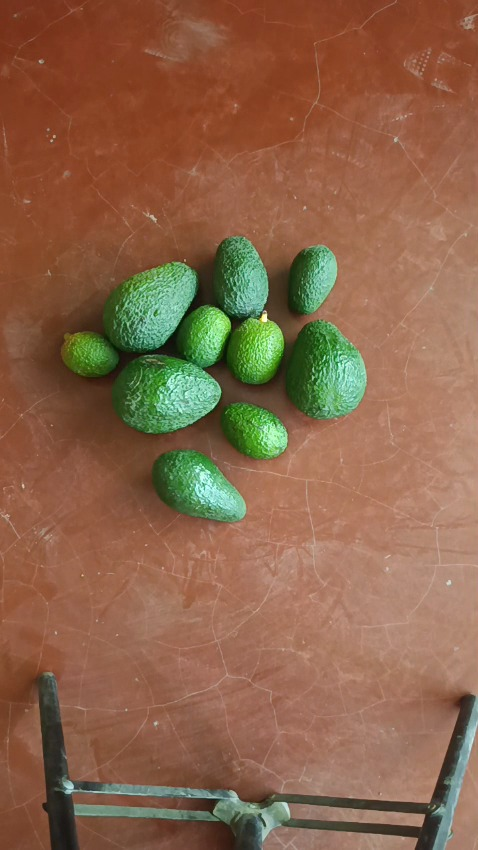Primera: (111, 354, 221, 433), (102, 261, 198, 351), (285, 320, 367, 419)
Segunda: (151, 449, 246, 521), (212, 236, 268, 321)
Tercera: (226, 316, 284, 384), (220, 402, 288, 459), (174, 305, 231, 368), (288, 245, 337, 317), (60, 331, 119, 378)
